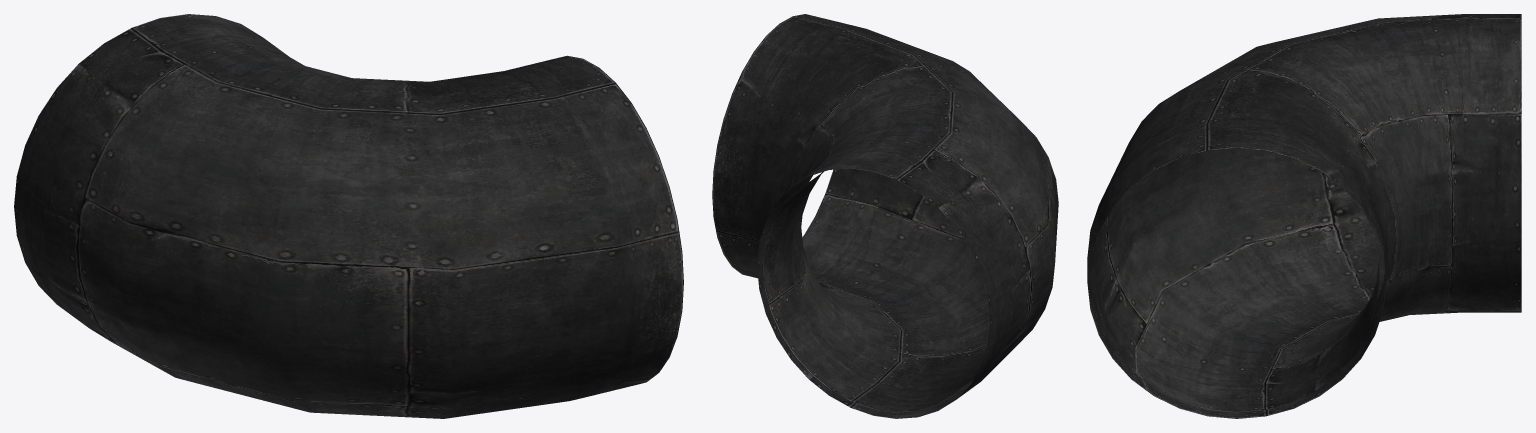
Rendered from engineroom_largepipe_corner_vanilla.dae.
3 views of the same model, side by side, from view 1: azimuth 30°, elevation 25°; view 2: azimuth 150°, elevation 25°; view 3: azimuth 270°, elevation 25° (orthographic). The views are drawn at different scales.
Visible parts, largest first — view 1: pipe_corner_sheets; view 2: pipe_corner_sheets; view 3: pipe_corner_sheets.
Part boxes in pixels (<box>): pipe_corner_sheets: <box>14,14,683,418</box>; pipe_corner_sheets: <box>712,14,1058,418</box>; pipe_corner_sheets: <box>1087,14,1521,418</box>.
Bounding box in the file's own units: 457 × 315 × 458.
